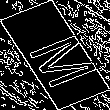M_NE: (13, 23, 97, 87)
